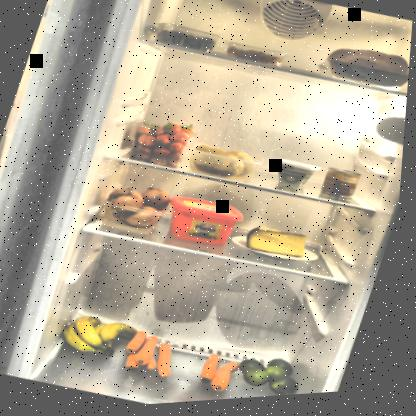banana: (54, 306, 141, 367)
blueberries: (155, 25, 218, 60)
butter: (159, 190, 252, 258)
carrot: (123, 327, 191, 387), (200, 352, 250, 399)
cheese: (244, 222, 317, 268)
chicken: (313, 39, 411, 106)
corn: (321, 168, 367, 209)
lime: (237, 351, 317, 401)
onion: (103, 175, 180, 238)
potato: (185, 140, 270, 194)
shrimp: (225, 43, 290, 75)
strawberries: (128, 112, 202, 169)
